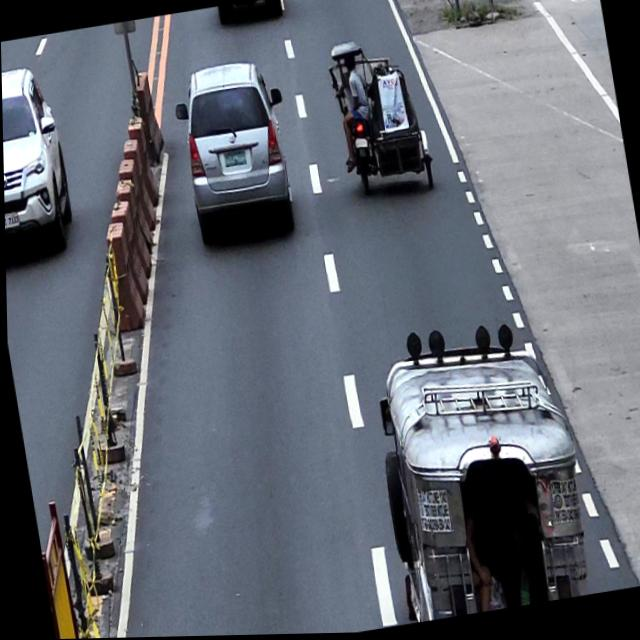Car: (168, 55, 302, 247), (1, 59, 77, 258)
Jeep: (359, 310, 597, 625)
License-Plate: (222, 147, 248, 171), (4, 211, 20, 231), (353, 138, 368, 152)
Tricycle: (324, 32, 437, 204)
